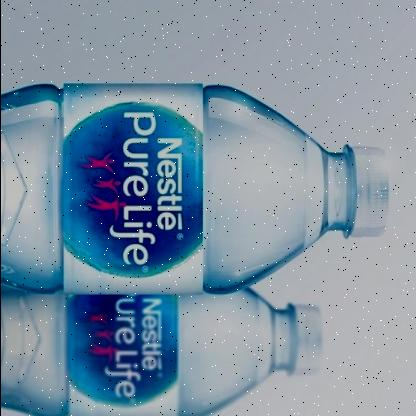Plastic Bottle: (0, 84, 388, 294), (0, 290, 322, 416)
